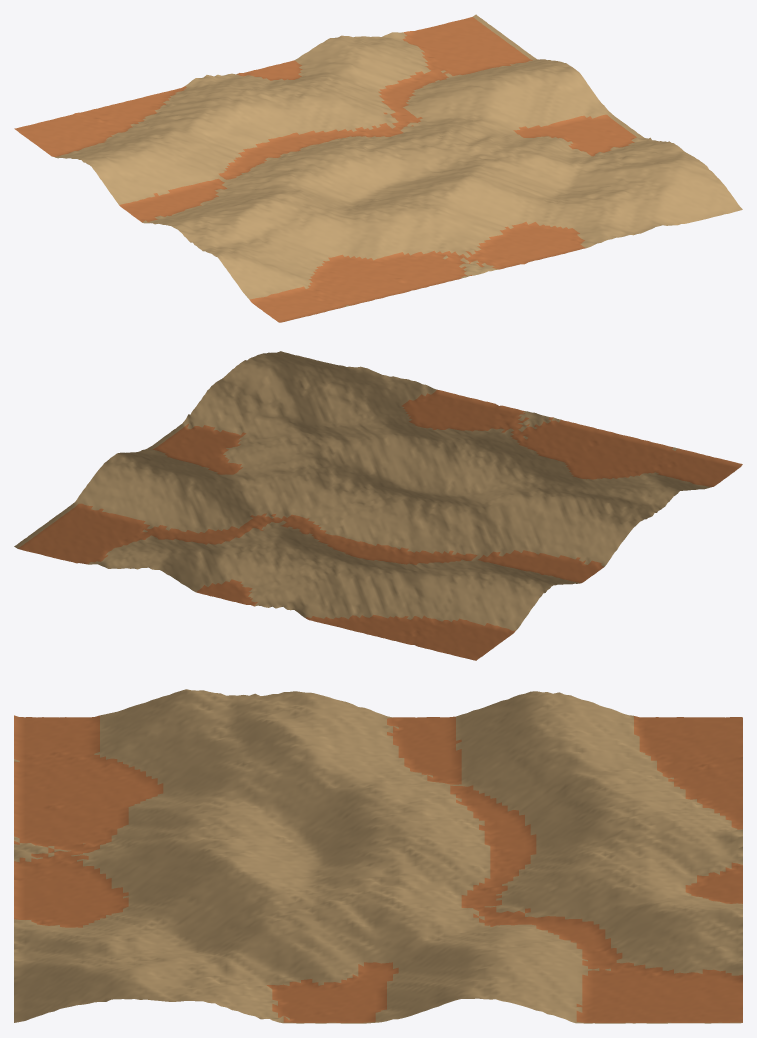
File: transverse_basic.obj
3 views of the same model, one above another, from view 1: azimuth 30°, elevation 25°; view 2: azimuth 150°, elevation 25°; view 3: azimuth 270°, elevation 25° (orthographic). The views are drawn at different scales.
Visible parts, largest first — view 1: Obj; view 2: Obj; view 3: Obj.
Part boxes in pixels (box(x1,y1,x2,y2)): Obj: box(14, 14, 742, 322); Obj: box(14, 351, 742, 660); Obj: box(14, 689, 742, 1023).
Size of the model in its own units: 128 by 6.64 by 128.
